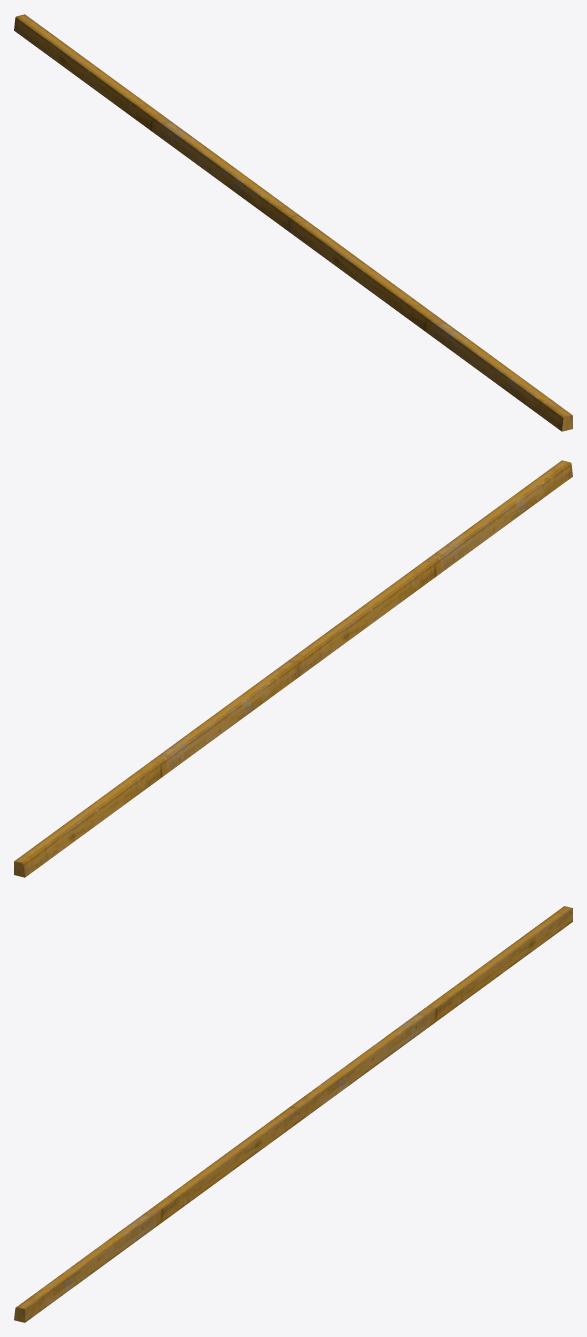
The model's file is MB_Curbstone_Yellow_8m.fbx.
3 views of the same model, one above another, from view 1: azimuth 30°, elevation 25°; view 2: azimuth 150°, elevation 25°; view 3: azimuth 330°, elevation 25° (orthographic).
Visible parts, largest first — view 1: MB_Curbstone_Yellow_8m; view 2: MB_Curbstone_Yellow_8m; view 3: MB_Curbstone_Yellow_8m.
Part boxes in pixels (x1,y1,x2,y2): MB_Curbstone_Yellow_8m: [14, 14, 572, 431]; MB_Curbstone_Yellow_8m: [14, 460, 572, 877]; MB_Curbstone_Yellow_8m: [14, 906, 572, 1322].
Bounding box in the file's own units: 9.28 × 11 × 800.
